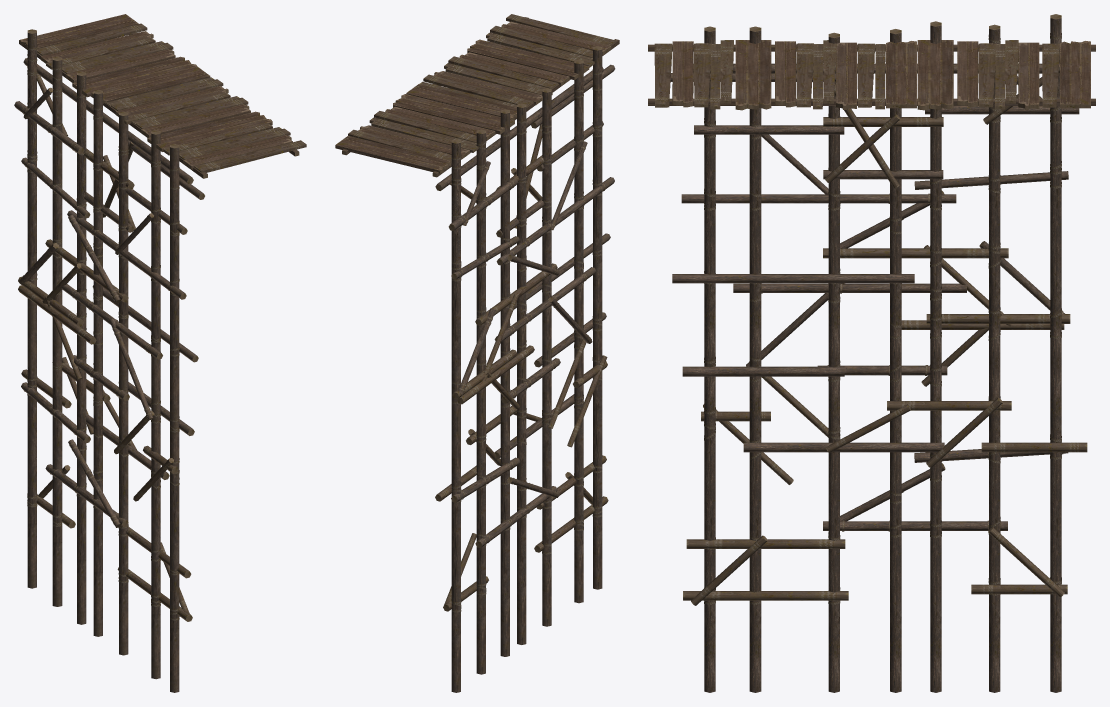
File: i_hl_gaojiazi01.FBX
3 views of the same model, side by side, from view 1: azimuth 30°, elevation 25°; view 2: azimuth 150°, elevation 25°; view 3: azimuth 270°, elevation 25° (orthographic). The views are drawn at different scales.
Visible parts, largest first — view 1: i_hl_gaojiazi01; view 2: i_hl_gaojiazi01; view 3: i_hl_gaojiazi01.
Boxes of the visible parts, <box> form: i_hl_gaojiazi01: <box>14,14,306,692</box>; i_hl_gaojiazi01: <box>335,14,619,692</box>; i_hl_gaojiazi01: <box>648,14,1095,692</box>.
Bounding box in the file's own units: 7.92 × 34.76 × 20.95.
